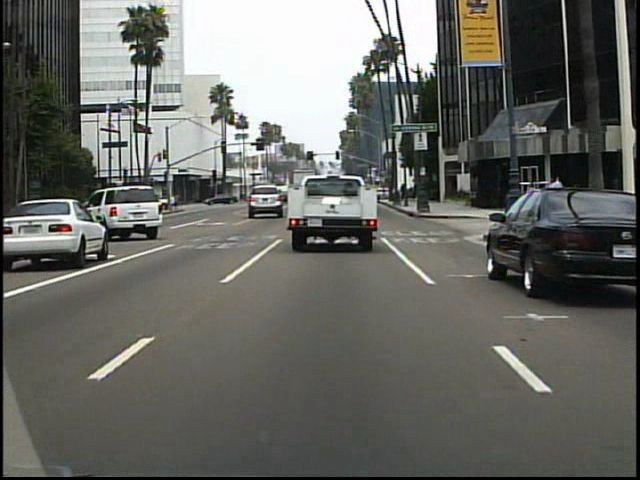person: (549, 173, 567, 213), (176, 189, 177, 214)
